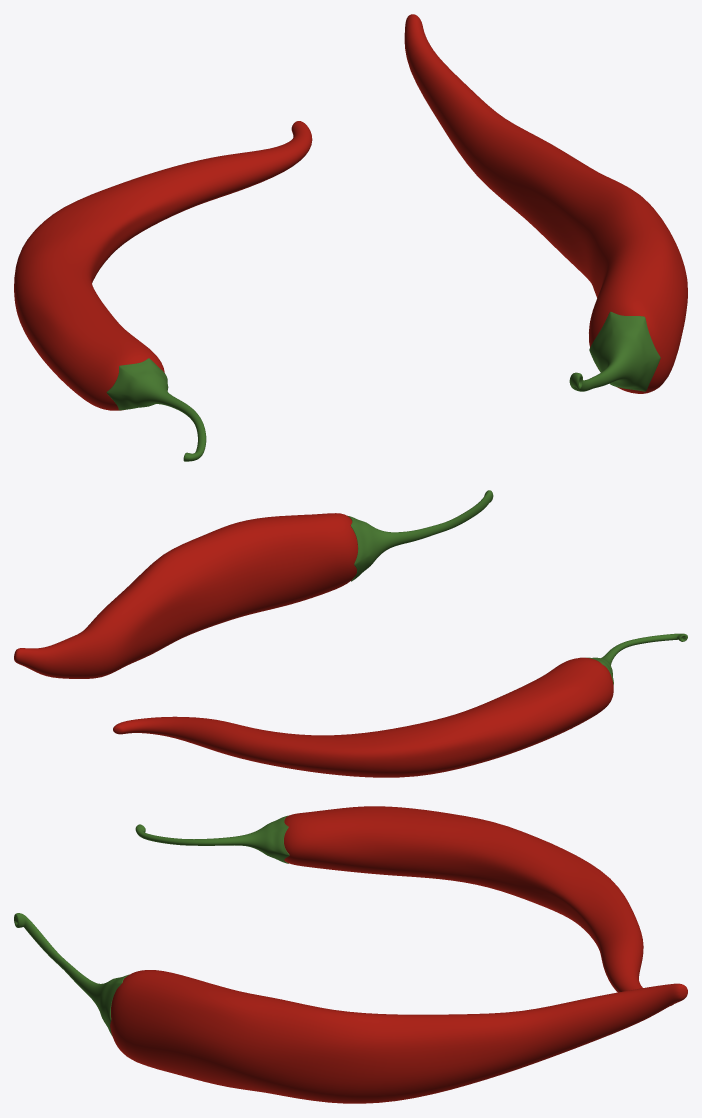
3 renders of one model, top to bottom at view 1: azimuth 30°, elevation 25°; view 2: azimuth 150°, elevation 25°; view 3: azimuth 270°, elevation 25°, orthographic. The views are drawn at different scales.
Visible parts, largest first — view 1: lajiao2, lajiao; view 2: lajiao2, lajiao; view 3: lajiao2, lajiao.
Part boxes in pixels (box(x1,y1,x2,y2)): lajiao2: box(404, 14, 687, 393); lajiao: box(14, 121, 312, 461); lajiao2: box(14, 490, 493, 678); lajiao: box(113, 633, 687, 777); lajiao2: box(14, 913, 687, 1103); lajiao: box(135, 806, 673, 1005).
Size of the model in its own units: 4.73 by 1.04 by 5.48.
